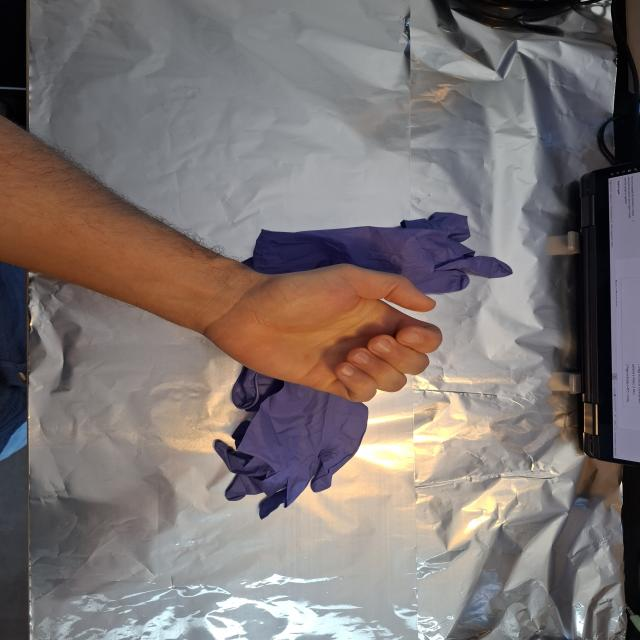glove_off: (199, 262, 447, 404)
